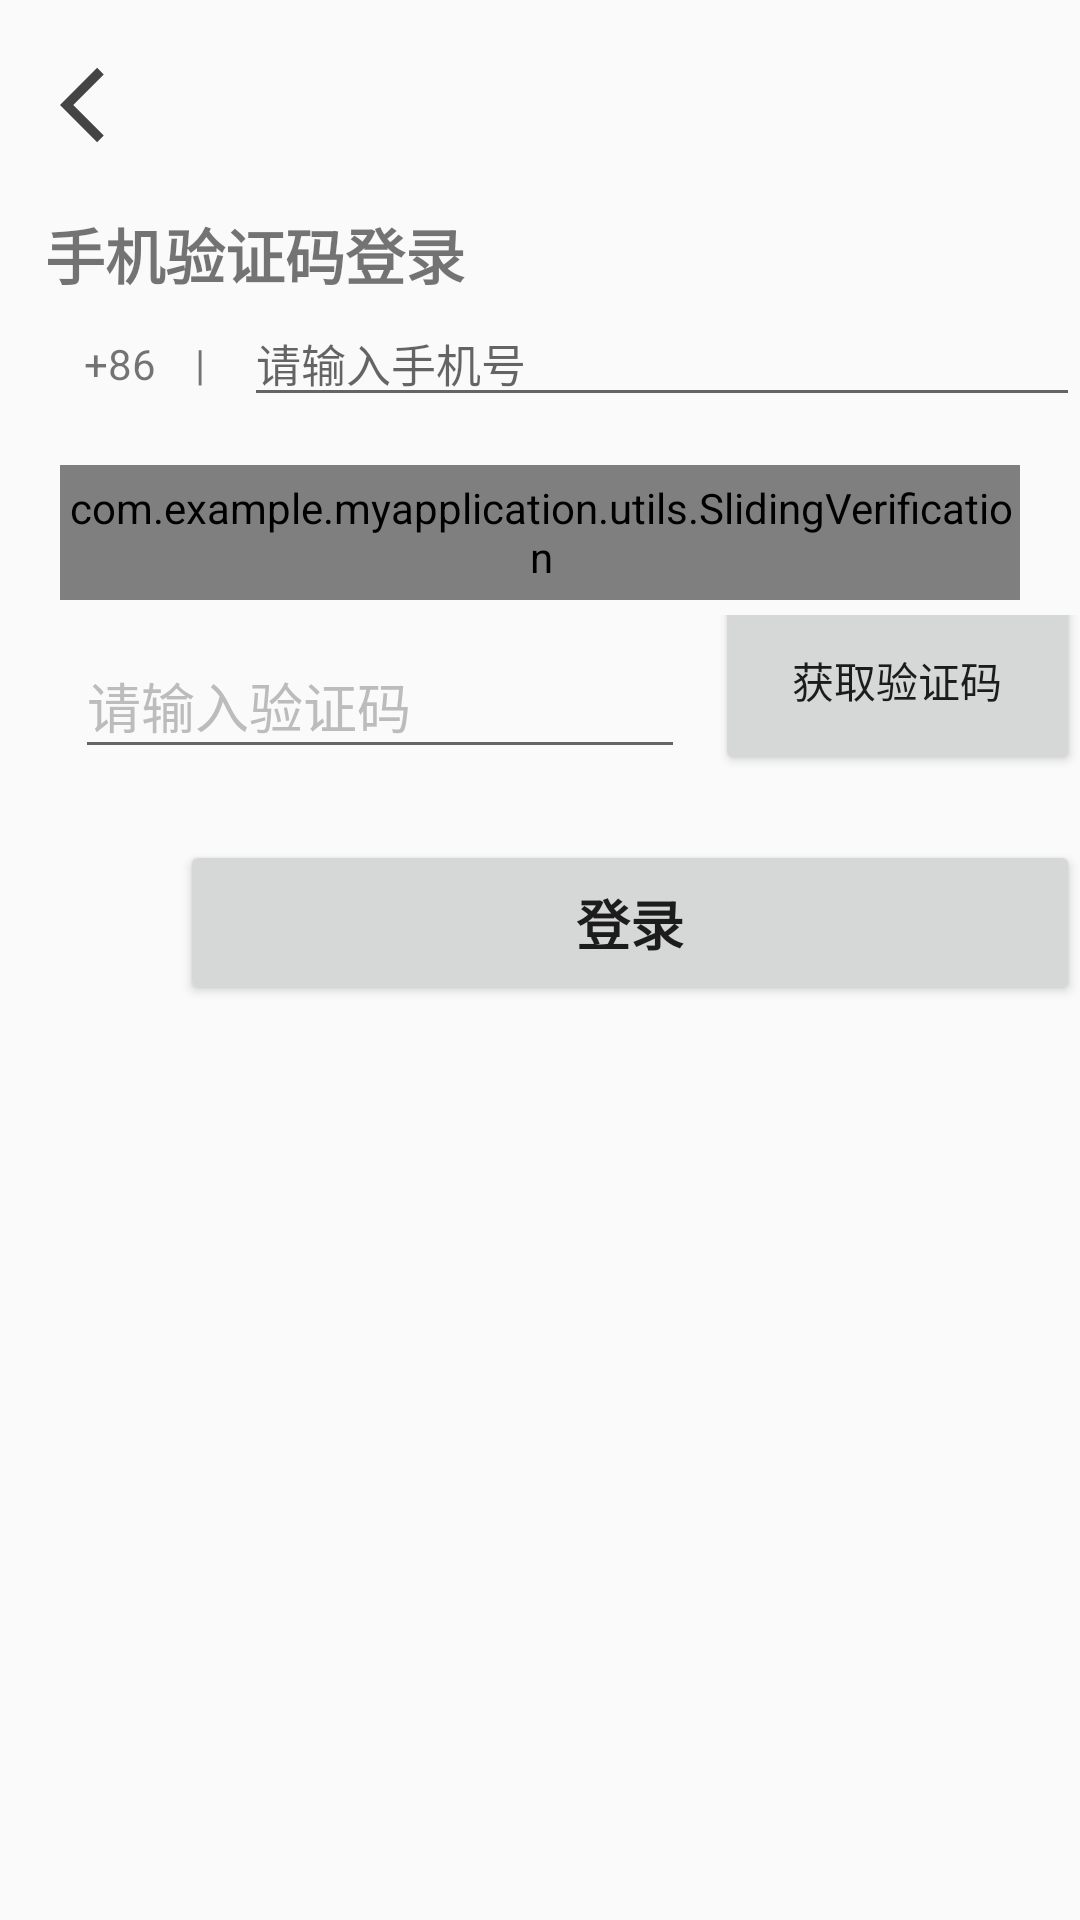

Named icons in this screenshot (1080x1920) and their bounding boxes, (x1, y1, x2, y2):
arrow back: (60, 68, 104, 142)
